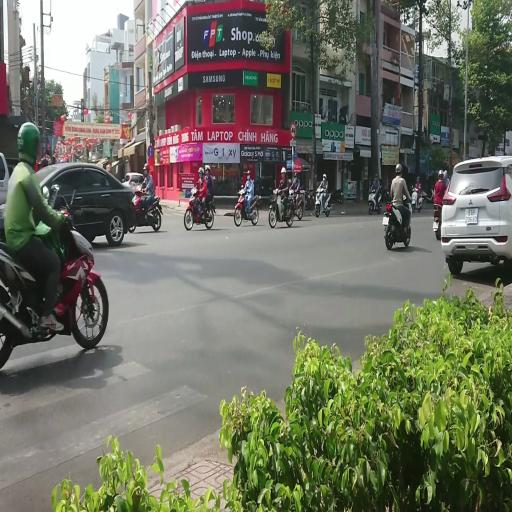bikes: (0, 191, 109, 370), (128, 185, 162, 232), (382, 198, 413, 249), (184, 186, 214, 230), (268, 188, 294, 228), (234, 187, 260, 226), (56, 140, 85, 163), (288, 188, 305, 220), (315, 188, 331, 216), (368, 184, 382, 214), (411, 186, 427, 212), (433, 202, 442, 240), (331, 188, 344, 204), (305, 188, 314, 210), (421, 188, 434, 202), (430, 188, 434, 201)
helmet: (17, 121, 40, 162), (293, 157, 302, 173), (41, 186, 49, 200), (395, 163, 402, 174), (204, 165, 210, 173), (136, 185, 142, 193), (191, 187, 197, 195), (143, 163, 149, 170), (198, 167, 204, 174), (239, 187, 245, 194), (438, 169, 443, 177), (416, 183, 421, 190), (281, 167, 286, 173), (138, 176, 143, 182), (443, 170, 447, 177), (294, 152, 298, 158), (240, 185, 244, 190), (323, 174, 326, 180), (247, 170, 250, 176), (294, 172, 297, 178), (417, 177, 420, 182), (375, 174, 378, 179), (288, 179, 291, 183)
